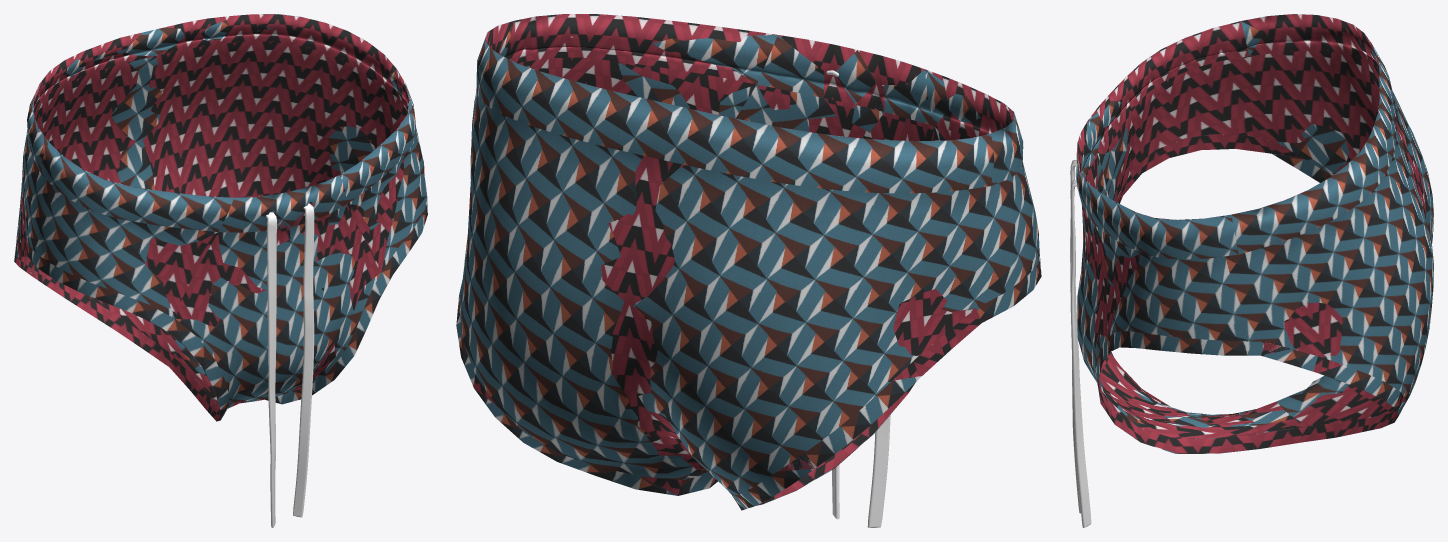
File: SwimBrief_thin_color_texture_blender_2.gltf
3 renders of one model, left to right at view 1: azimuth 30°, elevation 25°; view 2: azimuth 150°, elevation 25°; view 3: azimuth 270°, elevation 25°, orthographic. The views are drawn at different scales.
Parts seen in each view (by area): view 1: Cloth, Cloth.001, Trim; view 2: Cloth.001, Cloth, Trim; view 3: Cloth.001, Cloth, Trim.
Boxes of the visible parts, bbox=[...] form: Cloth: bbox=[14, 14, 409, 420]; Cloth.001: bbox=[14, 14, 427, 421]; Trim: bbox=[265, 203, 314, 527]; Cloth.001: bbox=[456, 14, 1041, 510]; Cloth: bbox=[474, 14, 1014, 505]; Trim: bbox=[826, 70, 890, 527]; Cloth.001: bbox=[1076, 14, 1433, 453]; Cloth: bbox=[1077, 14, 1426, 453]; Trim: bbox=[1070, 160, 1091, 527].
Bounding box in the file's own units: 34.49 × 35.2 × 26.41.
36 materials, 32 textured.
